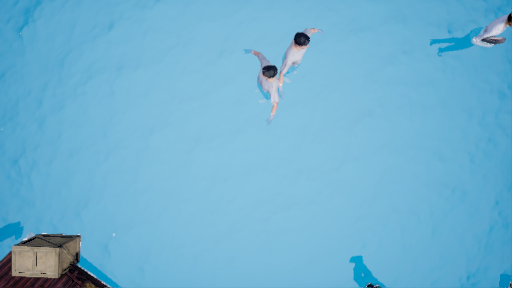person: (242, 25, 332, 126), (431, 12, 512, 65)
